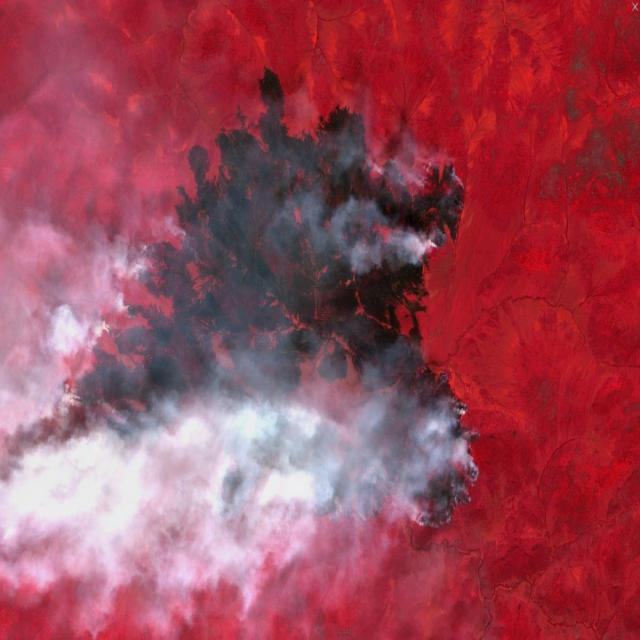fire: (70, 153, 483, 534)
